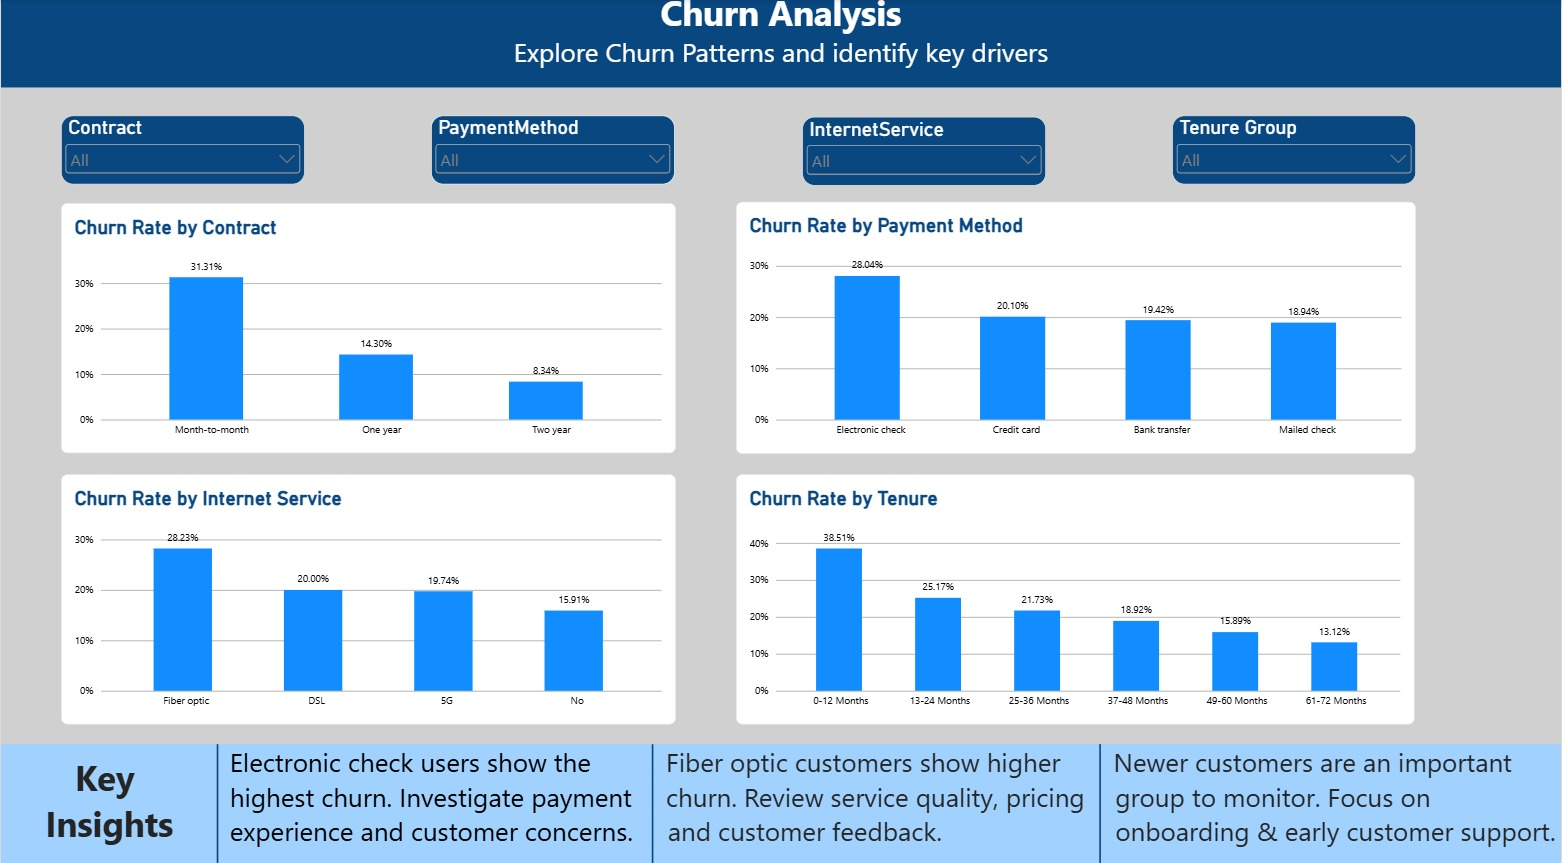

The dashboard page shown, as its layout file describes it:
{"tool":"powerbi","page":{"name":"Churn Analysis","canvas":[1920,1080],"ordinal":1},"visuals":[{"type":"clusteredColumnChart","title":"Churn Rate by Contract","fields":{"Category":["Dim Contract.Contract"],"Y":["DAX Measures.Churn Rate %"]},"box":[73.3,265,756.7,308.3],"z":0},{"type":"shape","box":[0,930.7,1920.6,149.7],"z":0,"group":"g1"},{"type":"textbox","box":[0,0,1920,122],"z":1000},{"type":"shape","box":[1262.7,930.7,179.3,149.7],"z":1000,"group":"g1"},{"type":"slicer","fields":{"Values":["Dim Contract.Contract"]},"box":[73.3,156.7,300,85],"z":2000},{"type":"textbox","box":[0,941.2,266.6,124.7],"z":2000,"group":"g1"},{"type":"slicer","fields":{"Values":["Dim Payment.PaymentMethod"]},"box":[529.4,156.7,300,85],"z":3000},{"type":"textbox","box":[266.7,930.7,563.3,150],"z":3000,"group":"g1"},{"type":"slicer","fields":{"Values":["Dim Internet Service.InternetService"]},"box":[985.6,158.3,300,85],"z":4000},{"type":"shape","box":[712.4,931.4,179.3,149.7],"z":4000,"group":"g1"},{"type":"slicer","fields":{"Values":["Customer Churn Analysis Dataset.Tenure Group"]},"box":[1441.7,156.7,300,85],"z":5000},{"type":"textbox","box":[802.8,931.4,573.7,149.7],"z":5000,"group":"g1"},{"type":"clusteredColumnChart","title":"Churn Rate  by Payment Method","fields":{"Category":["Dim Payment.PaymentMethod"],"Y":["DAX Measures.Churn Rate %"]},"box":[905,263.3,836.7,310],"z":6000},{"type":"shape","box":[191.7,931.4,148.4,149.7],"z":6000,"group":"g1"},{"type":"clusteredColumnChart","title":"Churn Rate by Internet Service","fields":{"Category":["Dim Internet Service.InternetService"],"Y":["DAX Measures.Churn Rate %"]},"box":[73.3,598.3,756.7,308.3],"z":7000},{"type":"clusteredColumnChart","title":"Churn Rate by Tenure","fields":{"Category":["Customer Churn Analysis Dataset.Tenure Group"],"Y":["DAX Measures.Churn Rate %"]},"box":[905,598.3,835,308.3],"z":8000},{"type":"group","id":"g1","title":"Group 1","box":[0,930.7,1920.6,150.3],"z":9000},{"type":"textbox","box":[1353.1,930.7,567.4,149.7],"z":10000}]}

Visuals, with their boxes in screenshot pixels (x1, y1, x2, y2), scaled from the page's 1920x1080 canvas onto the 1562x863 screenshot:
"Churn Rate by Contract" clusteredColumnChart: x1=60 y1=212 x2=675 y2=458
shape: x1=0 y1=744 x2=1561 y2=862
textbox: x1=0 y1=0 x2=1561 y2=97
shape: x1=1027 y1=744 x2=1173 y2=862
slicer - Dim Contract.Contract: x1=60 y1=125 x2=304 y2=193
textbox: x1=0 y1=752 x2=217 y2=852
slicer - Dim Payment.PaymentMethod: x1=431 y1=125 x2=675 y2=193
textbox: x1=217 y1=744 x2=675 y2=862
slicer - Dim Internet Service.InternetService: x1=802 y1=126 x2=1046 y2=194
shape: x1=580 y1=744 x2=725 y2=862
slicer - Customer Churn Analysis Dataset.Tenure Group: x1=1173 y1=125 x2=1417 y2=193
textbox: x1=653 y1=744 x2=1120 y2=862
"Churn Rate  by Payment Method" clusteredColumnChart: x1=736 y1=210 x2=1417 y2=458
shape: x1=156 y1=744 x2=277 y2=862
"Churn Rate by Internet Service" clusteredColumnChart: x1=60 y1=478 x2=675 y2=724
"Churn Rate by Tenure" clusteredColumnChart: x1=736 y1=478 x2=1416 y2=724
"Group 1" group: x1=0 y1=744 x2=1561 y2=862
textbox: x1=1101 y1=744 x2=1561 y2=862
